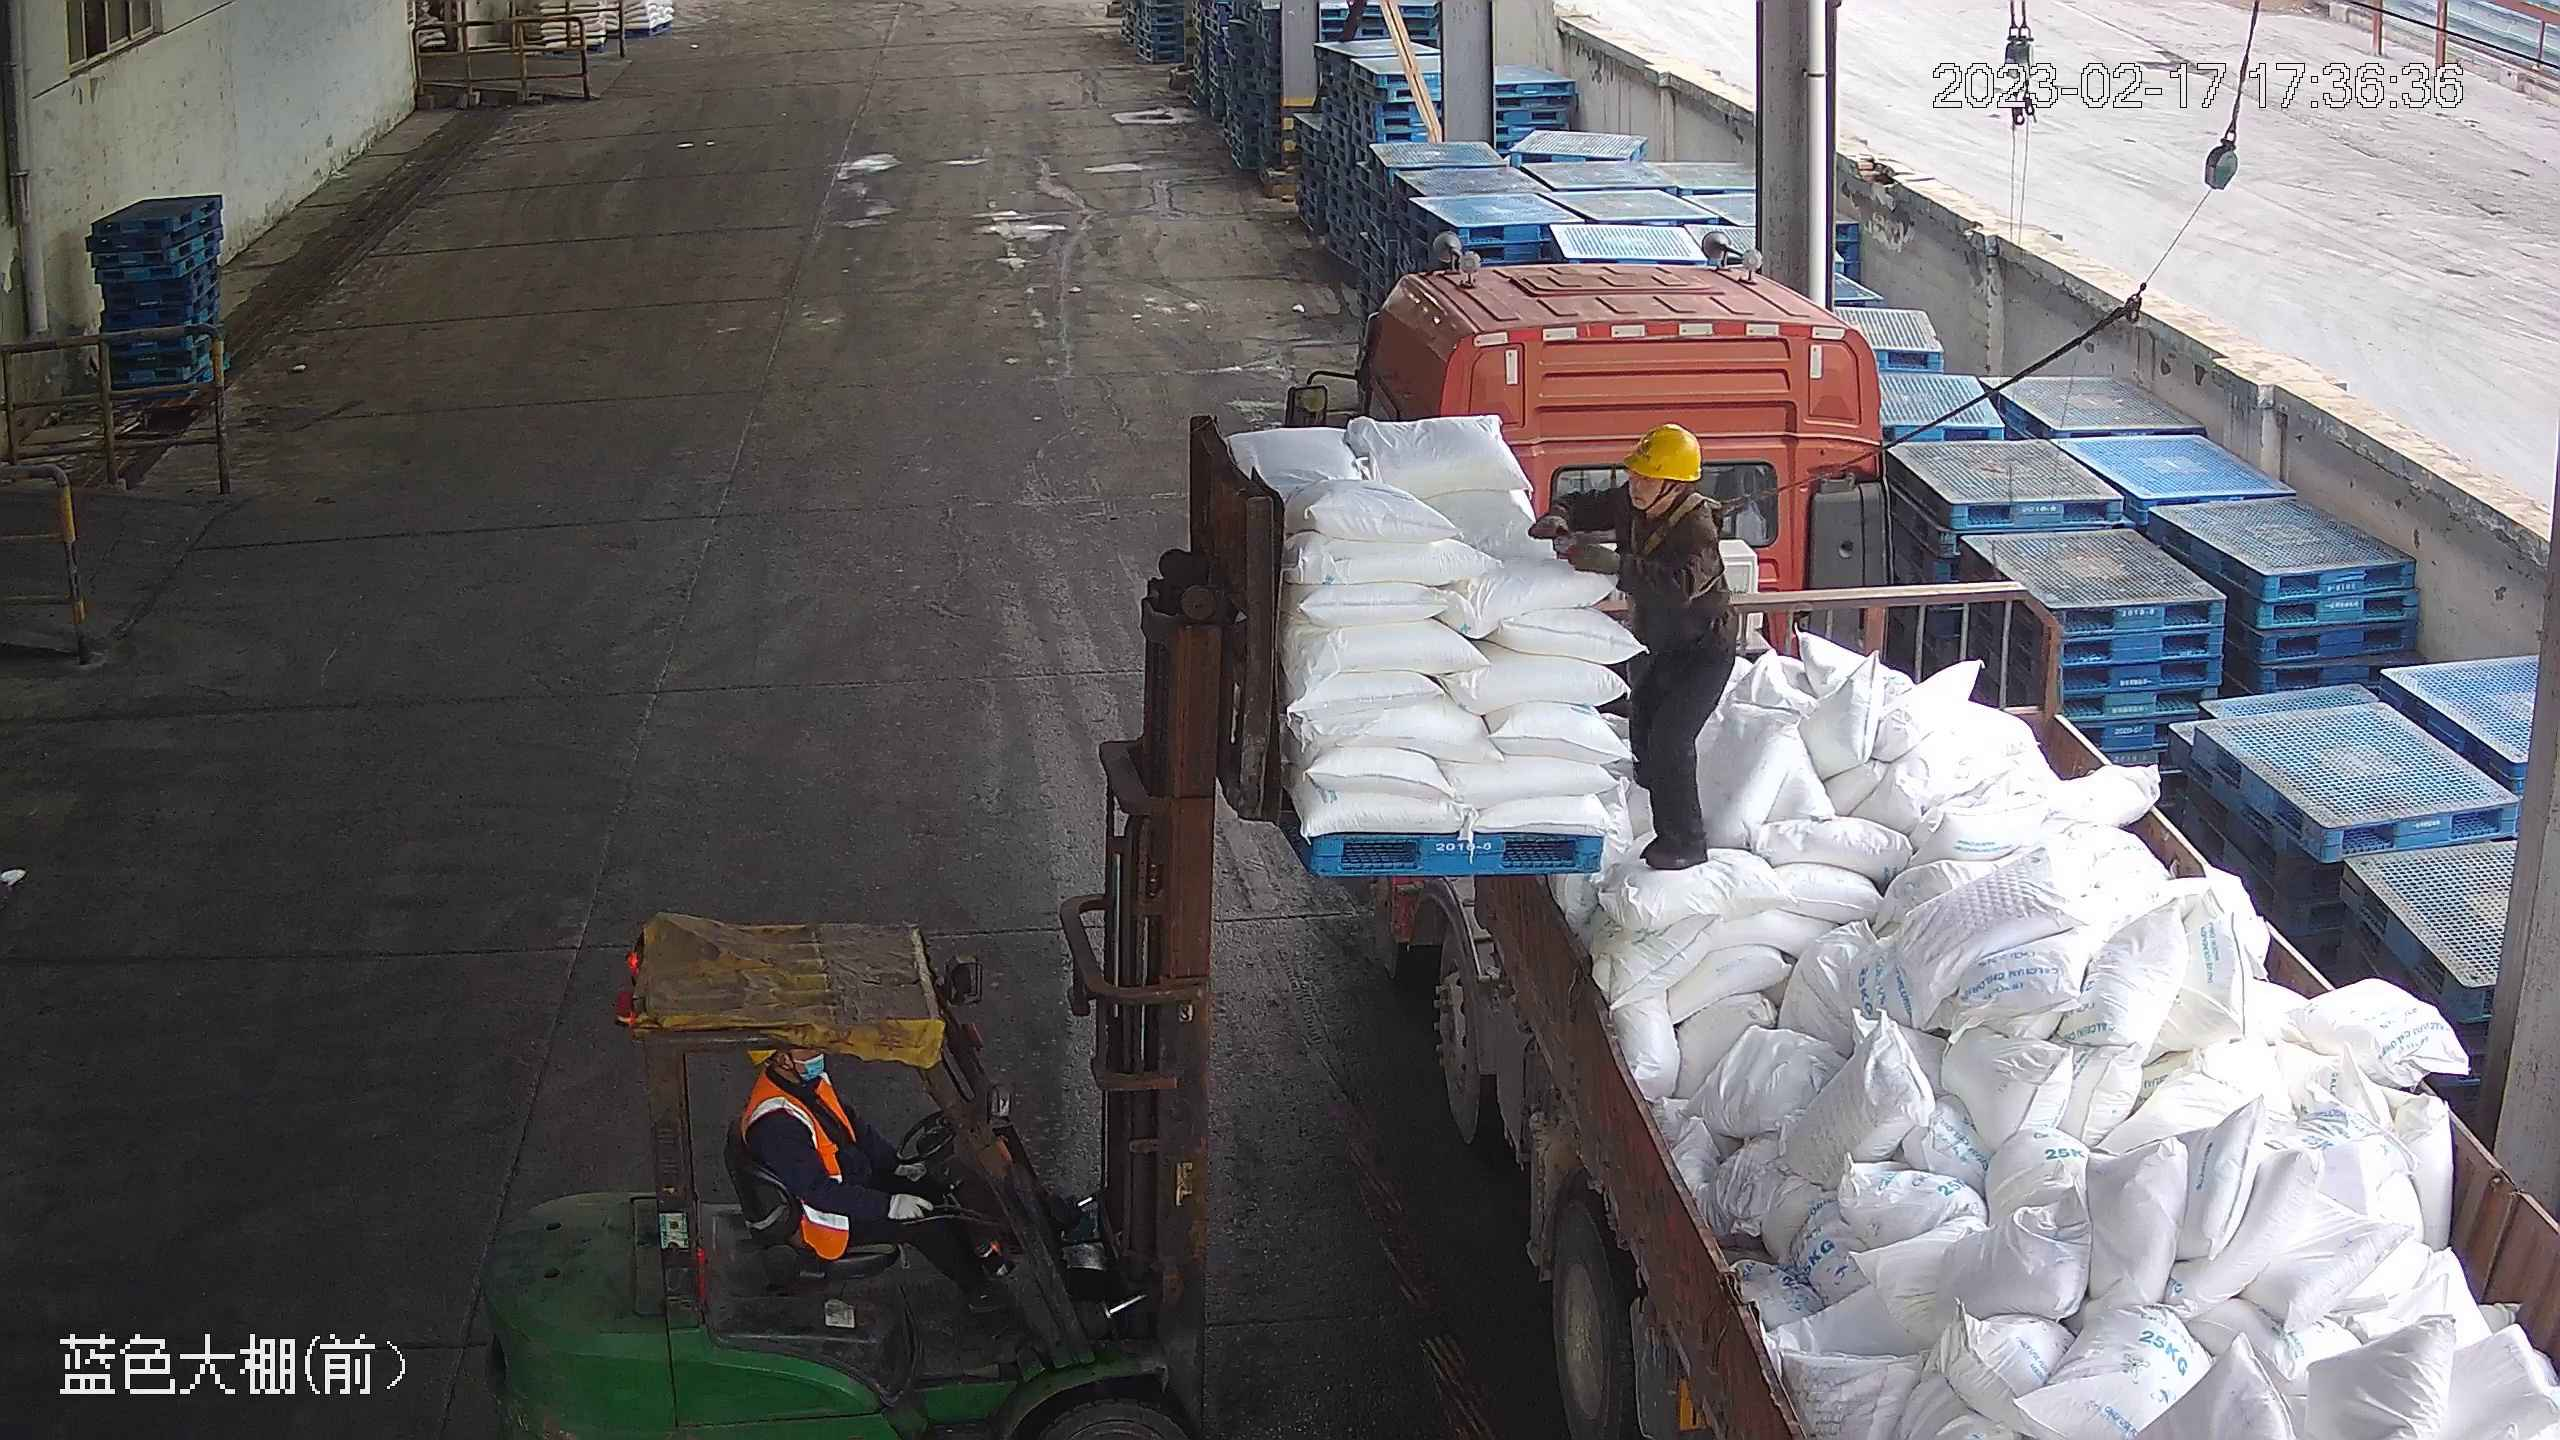belt: (1615, 496, 1759, 576)
head: (1593, 419, 1723, 561), (733, 1038, 866, 1171)
helmet: (1617, 418, 1703, 485)
people: (1543, 418, 1738, 877), (732, 1036, 985, 1342)
truck: (1288, 255, 2556, 1440)
